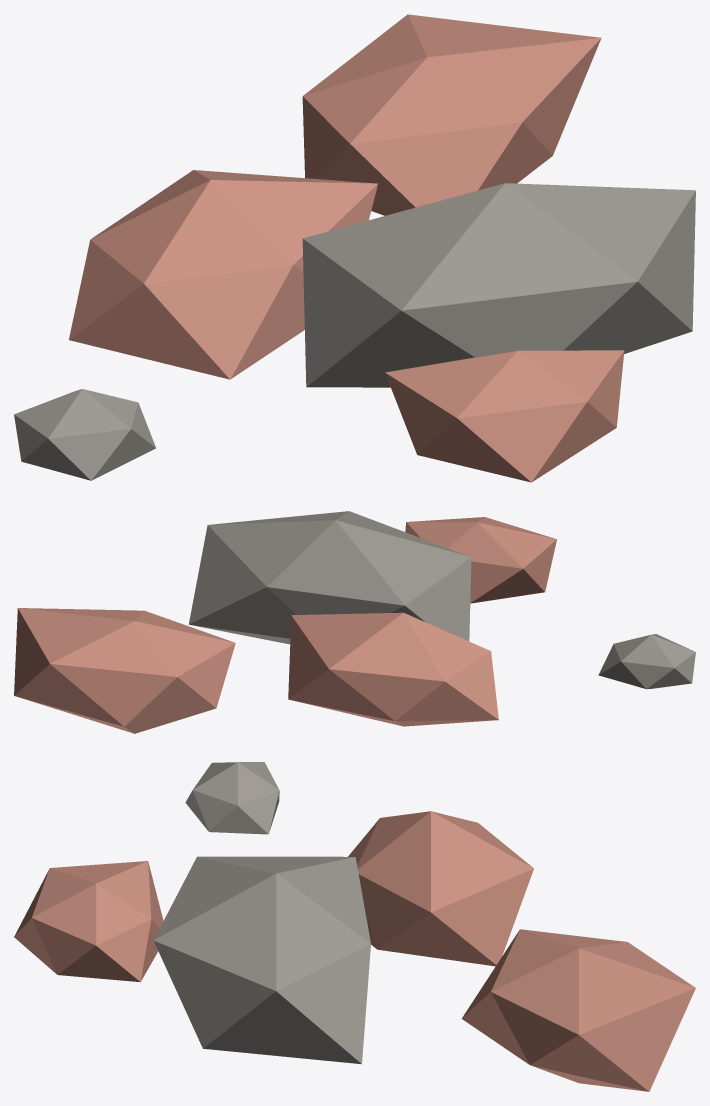
Rendered from stenar_1.glb.
The picture shows the model from 3 angles, top to bottom: view 1: azimuth 30°, elevation 25°; view 2: azimuth 150°, elevation 25°; view 3: azimuth 270°, elevation 25°; orthographic projection. The views are drawn at different scales.
Parts seen in each view (by area): view 1: stenar_1; view 2: stenar_1; view 3: stenar_1.
Part boxes in pixels (x1,y1,x2,y2): stenar_1: (14,14,695,482); stenar_1: (14,511,695,733); stenar_1: (14,762,695,1091).
Bounding box in the file's own units: 1.65 × 0.4128 × 1.53.
